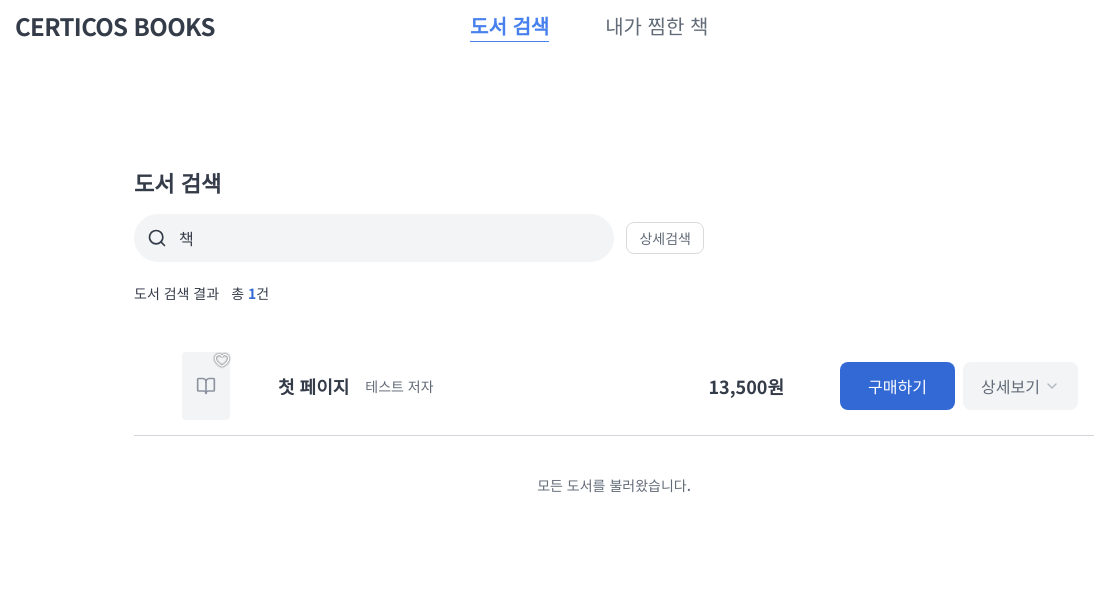
Test: 검색 결과와 추가 로딩 › 기존 결과의 갱신 실패는 목록을 유지하면서 별도로 알린다
Expected: the heading "첫 페이지" is shown, [278,376,349,394]
Click the search field named "검색어": coordinates (390, 238) [167,215,614,261]
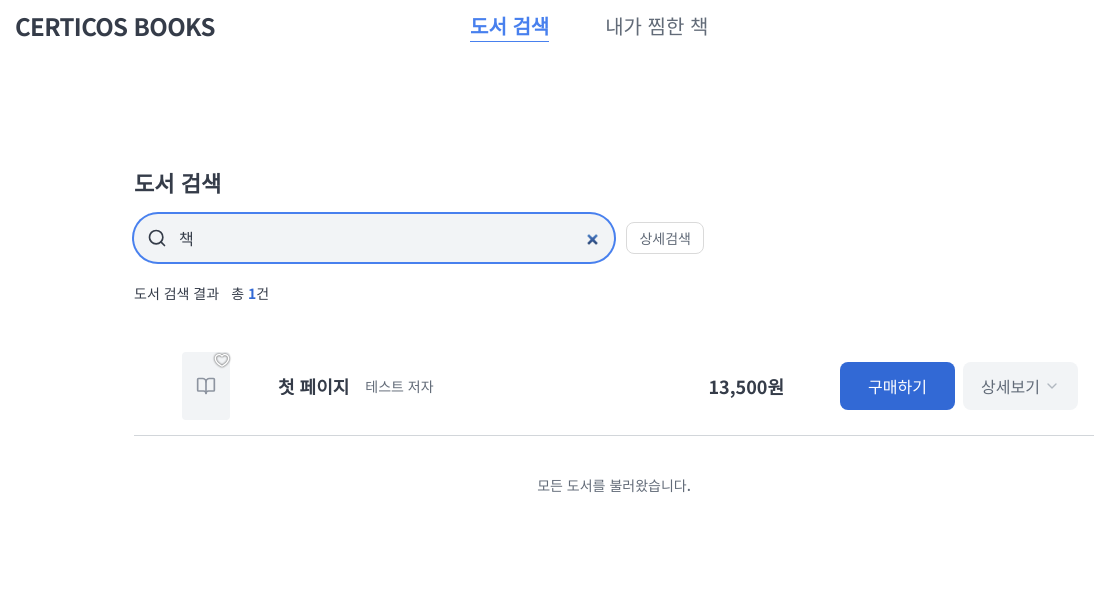
Press Enter
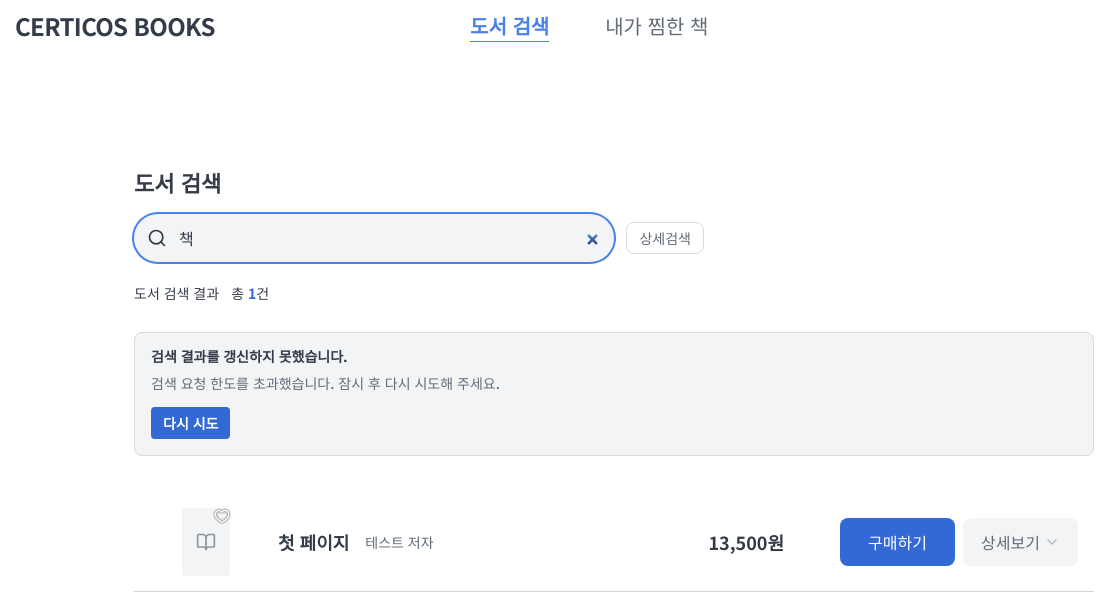
Expected: the heading "첫 페이지" is shown, [278,532,349,550]
Result: the heading "검색 결과를 갱신하지 못했습니다." is shown at [151,346,348,366]
